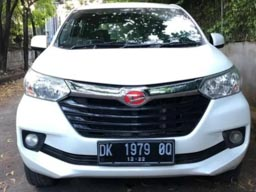plat: (98, 142, 173, 155)
